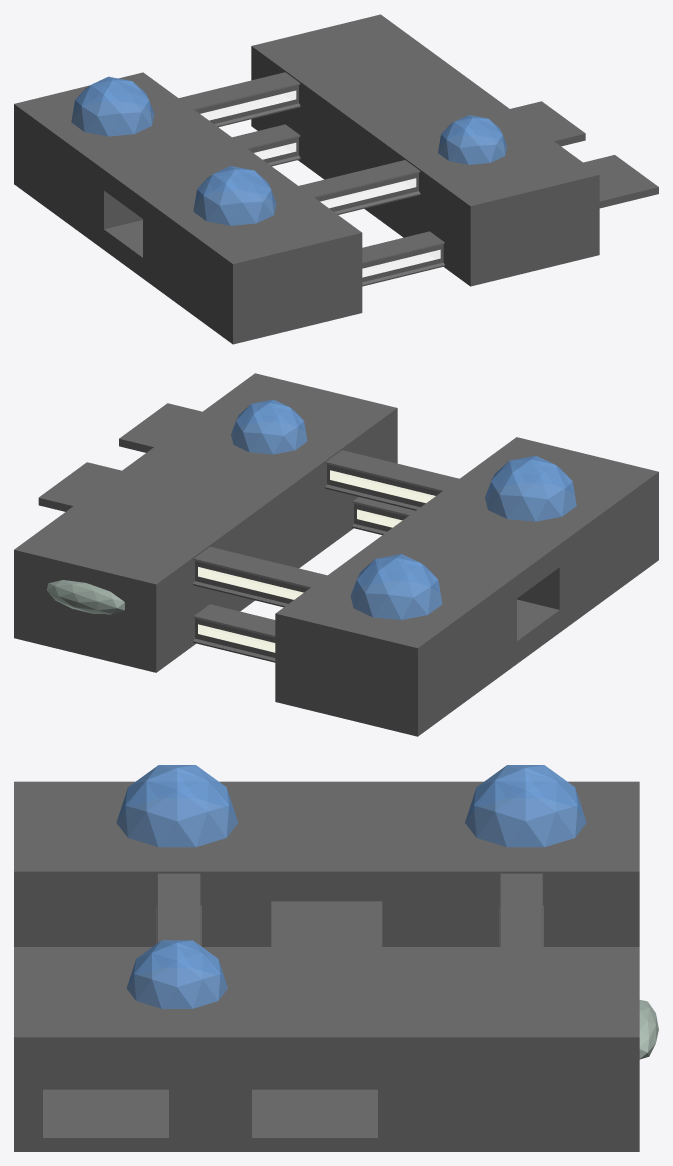
The model's file is basic station.glb.
3 renders of one model, top to bottom at view 1: azimuth 30°, elevation 25°; view 2: azimuth 150°, elevation 25°; view 3: azimuth 270°, elevation 25°, orthographic. The views are drawn at different scales.
Parts seen in each view (by area): view 1: Hull.001, Hull, Connector Walkway, Connector Walkway.002, Canopy.001, Canopy.002, Connector Walkway.001, Canopy, Landing Pad, Connector Walkway.003, Landing Pad.001; view 2: Hull.001, Hull, Connector Walkway, Connector Walkway.002, Canopy.001, Canopy.002, Connector Walkway.003, Canopy, Landing Pad.001, Landing Pad, Canopy.003, Connector Walkway.001; view 3: Hull, Hull.001, Canopy.001, Canopy.002, Landing Pad, Landing Pad.001, Canopy, Connector Walkway.002, Connector Walkway, Canopy.003.
Part boxes in pixels (x1=…): Hull.001: x1=14, y1=72, x2=362, y2=344; Hull: x1=251, y1=14, x2=599, y2=286; Connector Walkway: x1=299, y1=160, x2=420, y2=214; Connector Walkway.002: x1=179, y1=72, x2=300, y2=127; Canopy.001: x1=193, y1=166, x2=276, y2=225; Canopy.002: x1=71, y1=76, x2=154, y2=136; Connector Walkway.001: x1=362, y1=231, x2=444, y2=286; Canopy: x1=438, y1=115, x2=507, y2=164; Landing Pad: x1=583, y1=155, x2=658, y2=208; Connector Walkway.003: x1=232, y1=124, x2=300, y2=166; Landing Pad.001: x1=510, y1=101, x2=585, y2=146; Hull.001: x1=275, y1=437, x2=658, y2=736; Hull: x1=14, y1=373, x2=397, y2=672; Connector Walkway: x1=325, y1=450, x2=459, y2=510; Connector Walkway.002: x1=193, y1=546, x2=327, y2=607; Canopy.001: x1=485, y1=455, x2=576, y2=521; Canopy.002: x1=350, y1=554, x2=442, y2=619; Connector Walkway.003: x1=193, y1=604, x2=275, y2=662; Canopy: x1=231, y1=399, x2=307, y2=454; Landing Pad.001: x1=38, y1=462, x2=121, y2=511; Landing Pad: x1=119, y1=403, x2=201, y2=452; Canopy.003: x1=47, y1=580, x2=124, y2=614; Connector Walkway.001: x1=352, y1=497, x2=415, y2=535; Hull: x1=14, y1=947, x2=639, y2=1151; Hull.001: x1=14, y1=781, x2=639, y2=946; Canopy.001: x1=116, y1=765, x2=237, y2=847; Canopy.002: x1=465, y1=765, x2=586, y2=847; Landing Pad: x1=43, y1=1089, x2=168, y2=1147; Landing Pad.001: x1=252, y1=1089, x2=377, y2=1147; Canopy: x1=126, y1=940, x2=227, y2=1008; Connector Walkway.002: x1=499, y1=873, x2=543, y2=946; Connector Walkway: x1=156, y1=873, x2=201, y2=946; Canopy.003: x1=639, y1=1000, x2=658, y2=1059.
Size of the model in its own units: 133 by 34.55 by 119.
